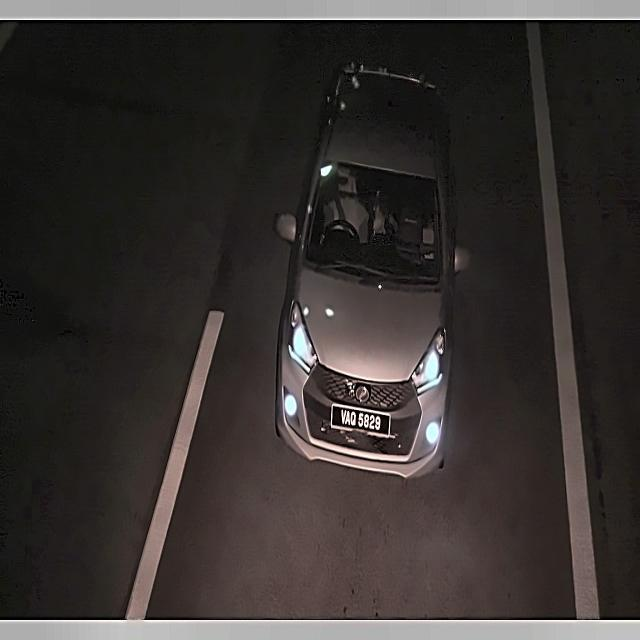car: (334, 405, 387, 437)
